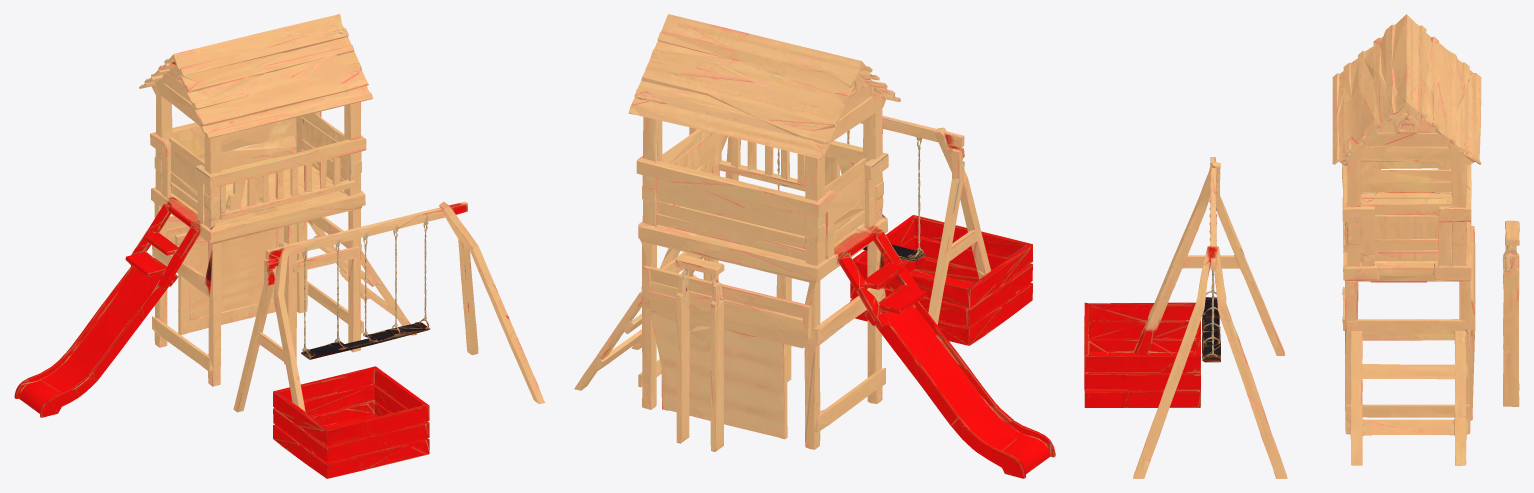
File: playground.glb
3 renders of one model, left to right at view 1: azimuth 30°, elevation 25°; view 2: azimuth 150°, elevation 25°; view 3: azimuth 270°, elevation 25°, orthographic. The views are drawn at different scales.
Size of the model in its own units: 1.9 by 1.46 by 1.7.
1 material, 1 textured.
